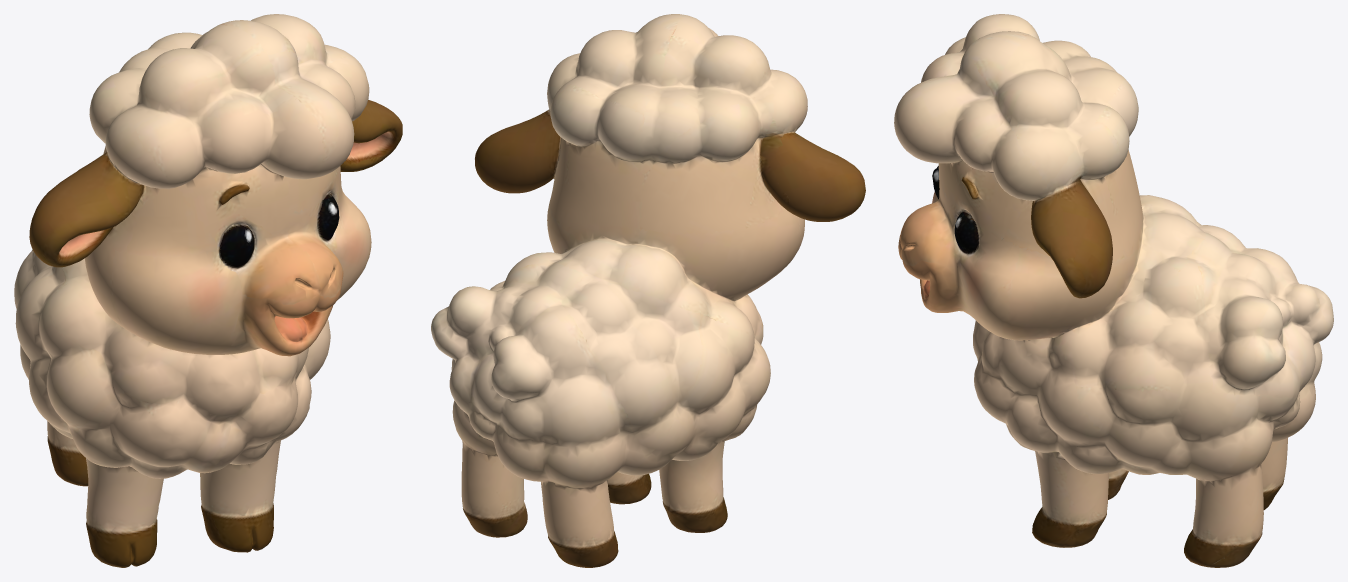
3 views of the same model, side by side, from view 1: azimuth 30°, elevation 25°; view 2: azimuth 150°, elevation 25°; view 3: azimuth 270°, elevation 25° (orthographic). The views are drawn at different scales.
Size of the model in its own units: 1.5 by 1.9 by 1.55.
Materials: 1 (1 with a texture image).
